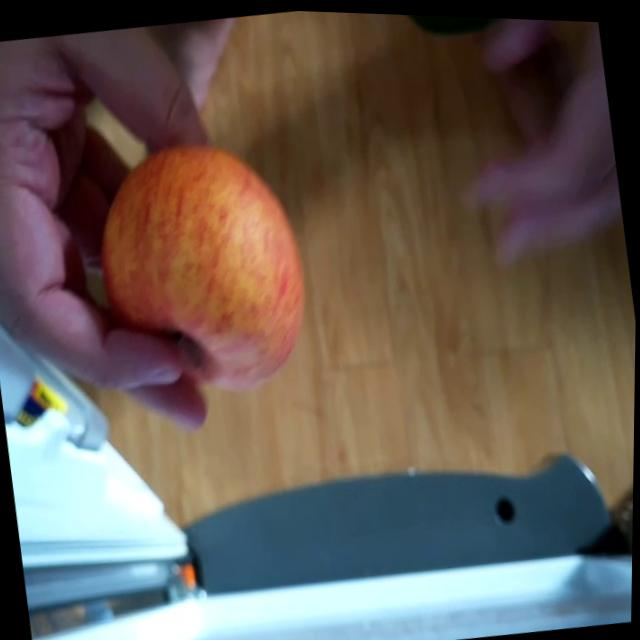apple: (81, 134, 324, 406)
